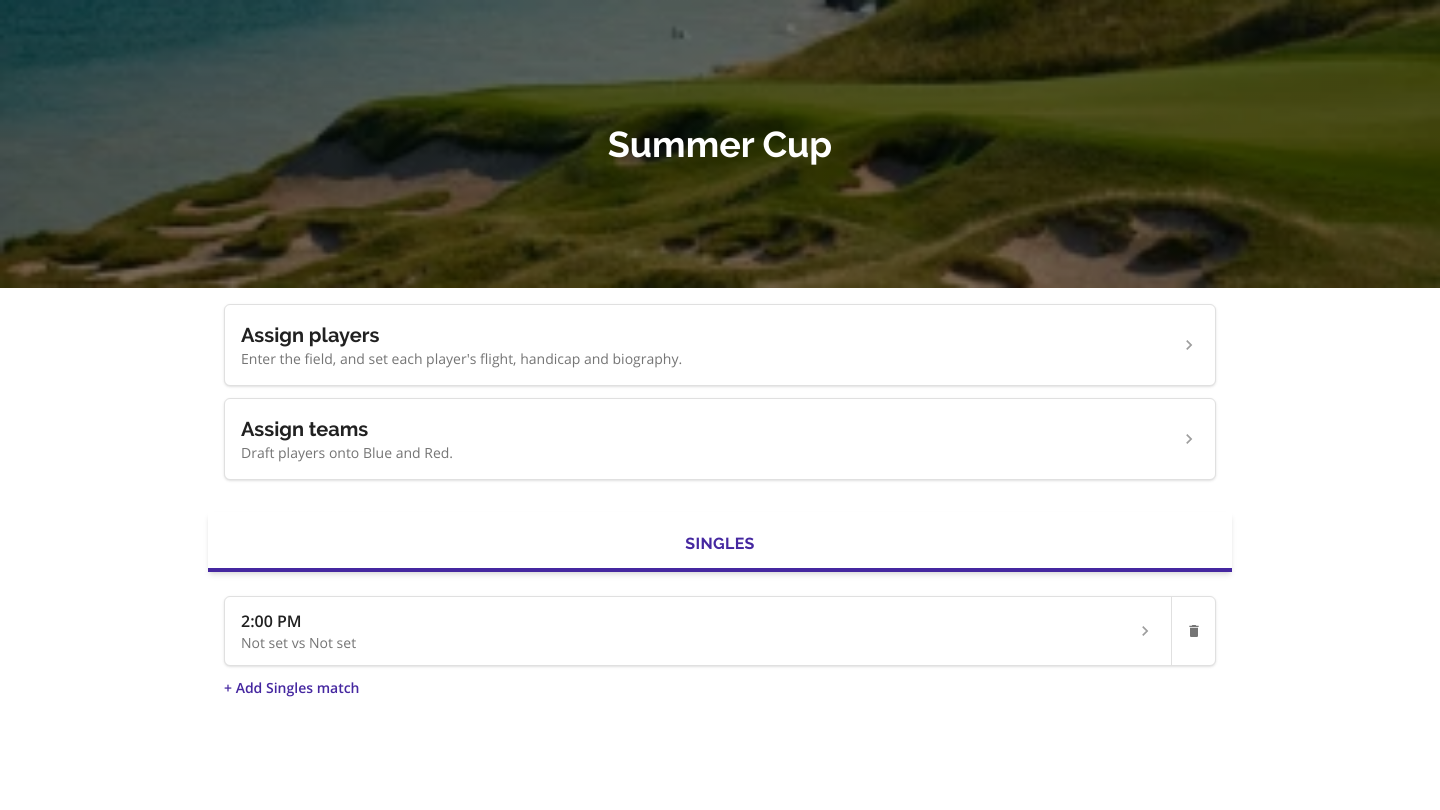
Test case: AdminTournamentView › still has a tee selected when the form is reopened on the same course
Click the button "+ Add Singles match". click: click(292, 688)
box: [224,678,360,698]
(page scrolled)
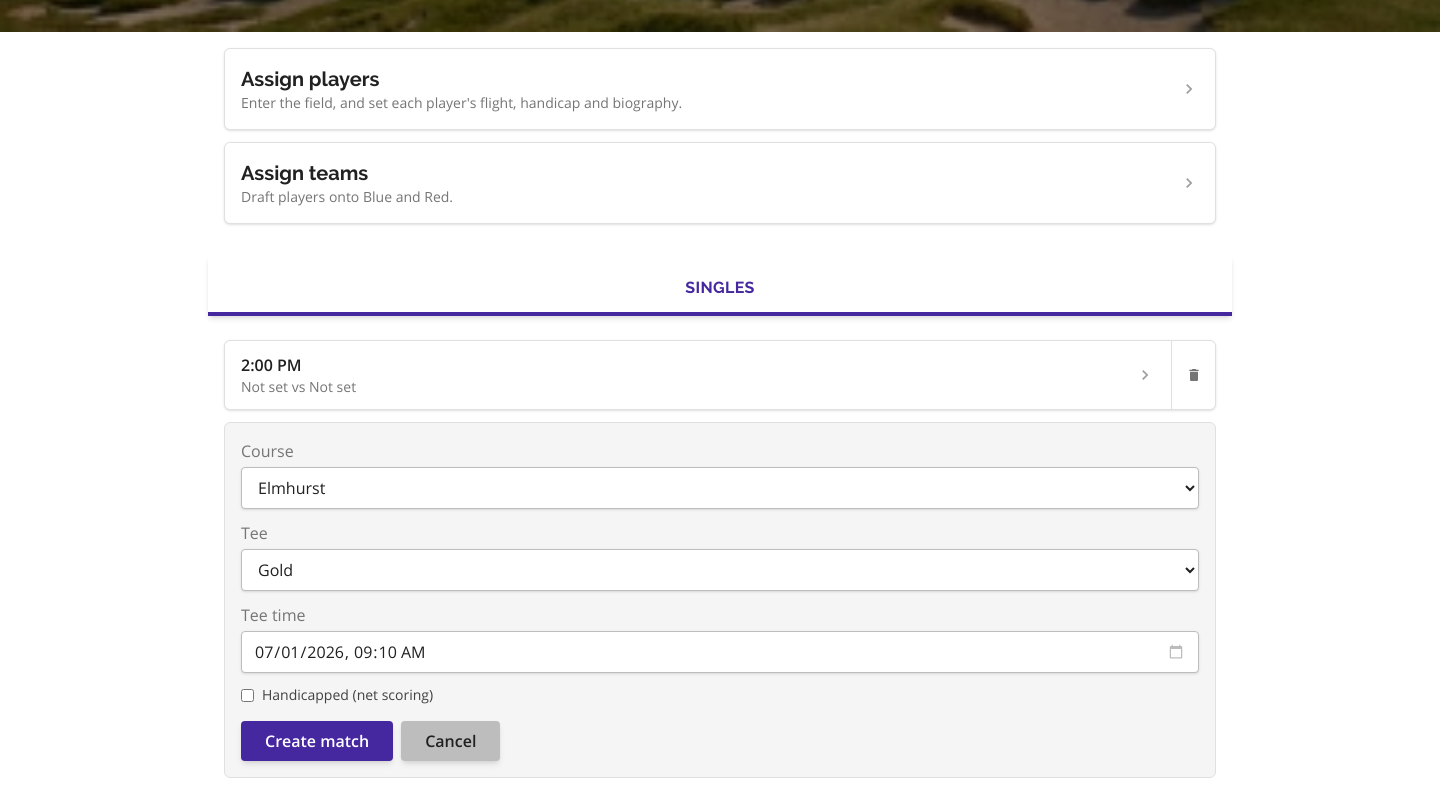
Click the button "Cancel". click: click(451, 741)
box: [401,721,500,761]
(page scrolled)
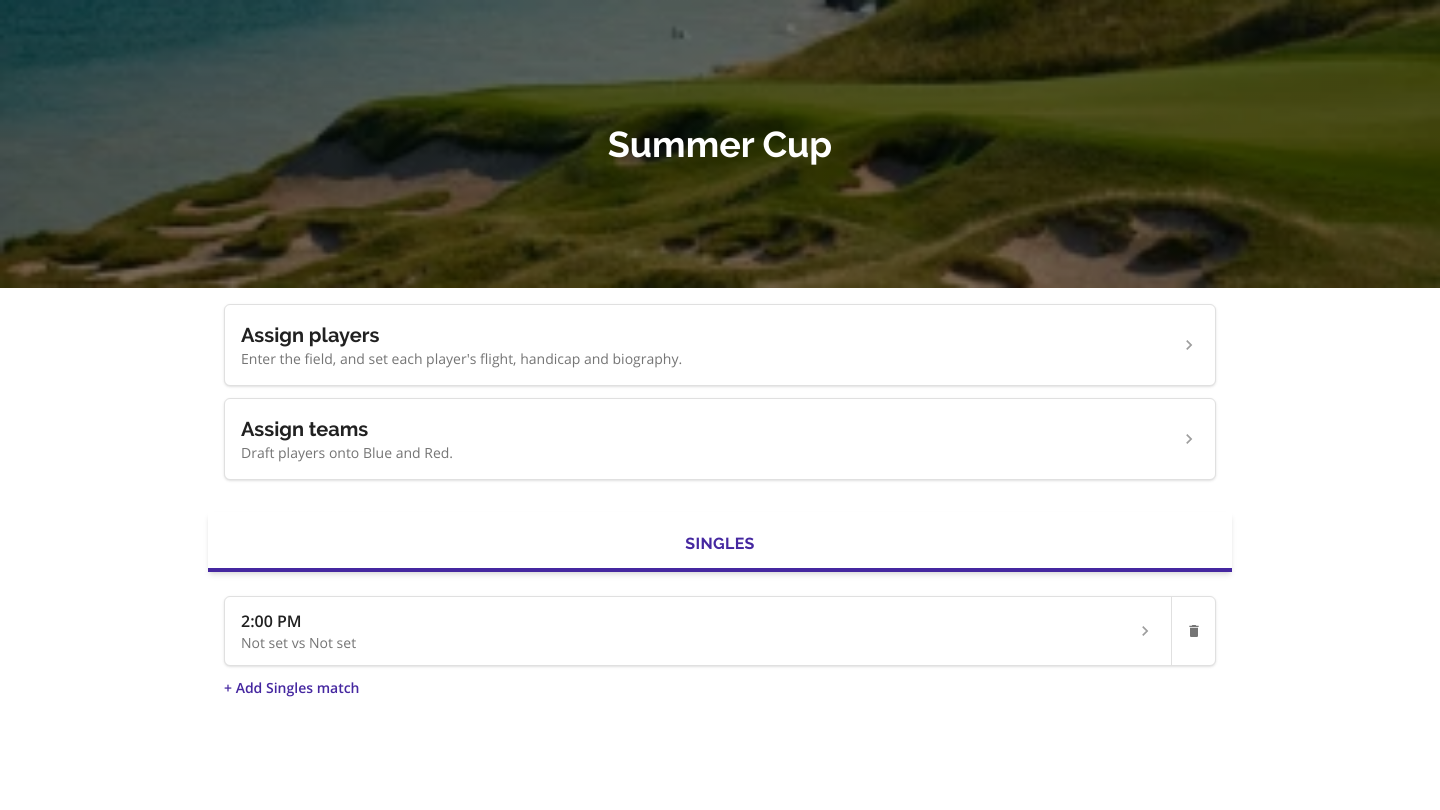
Click the button "+ Add Singles match". click: click(292, 688)
box: [224,678,360,698]
(page scrolled)
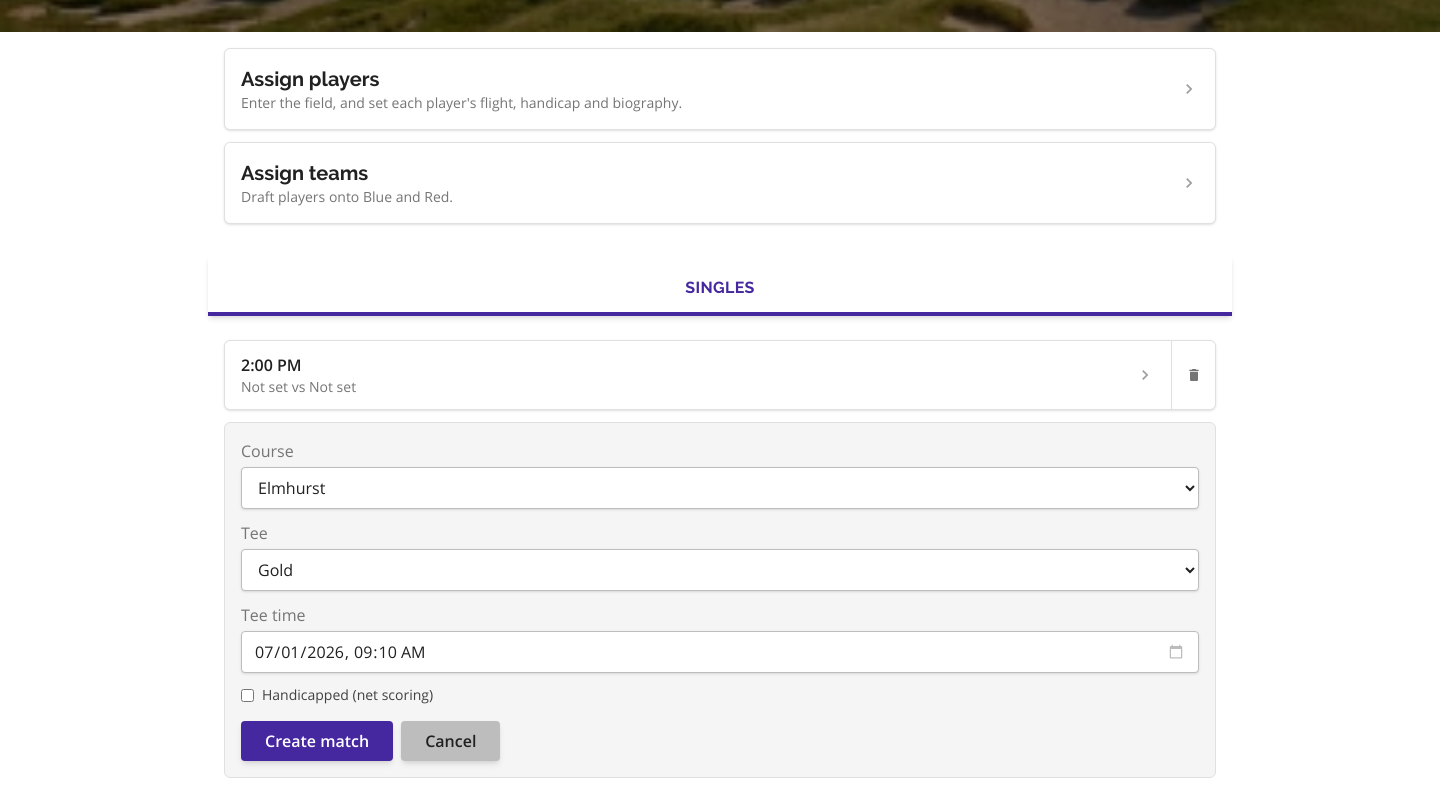
Result: the 2nd dropdown shows "Gold" at [241,549,1199,591]
